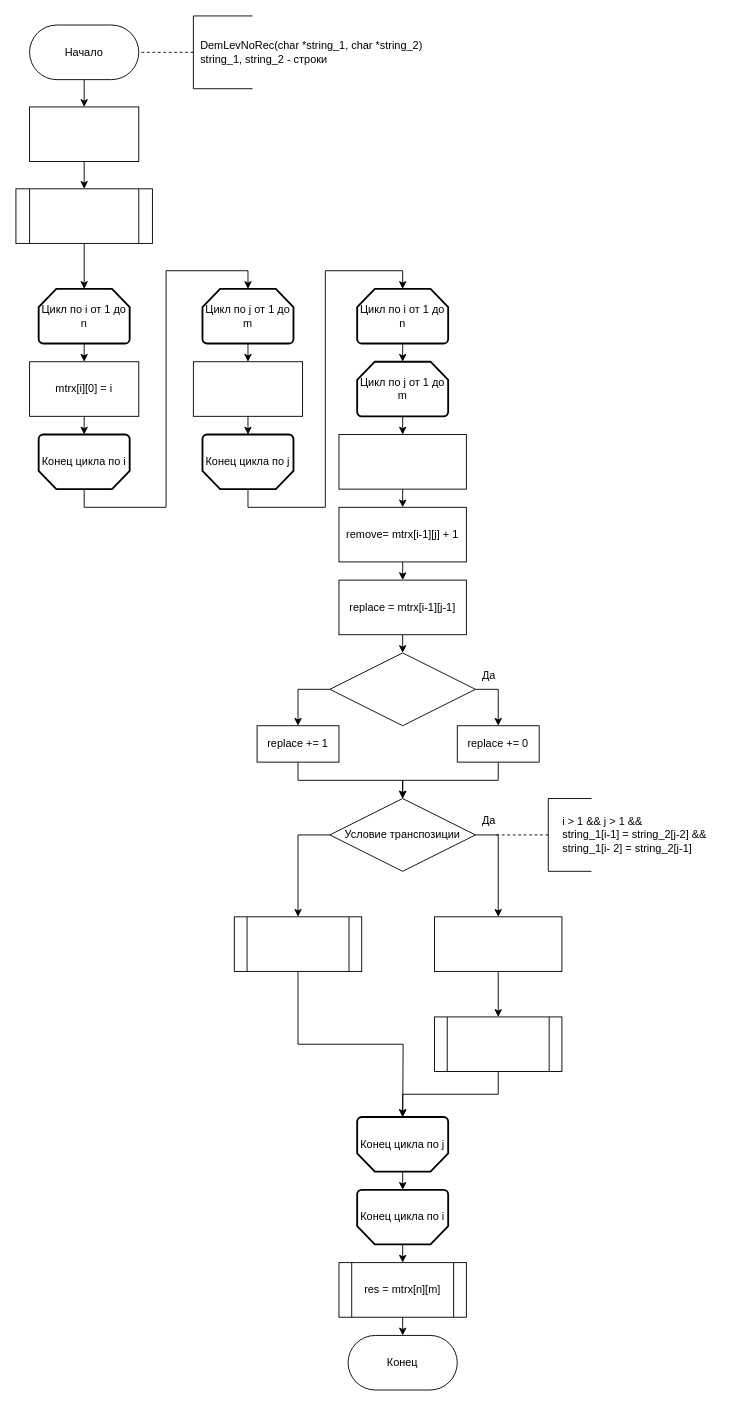
Some shapes in this 737 by 1406 pixel diagram are drawn without their labels. Each missing label, with the centre of its shape:
"insert = mtrx[i][j-1] + 1" belongs at pixel 402 461.
"mtrx[0][j] = j" belongs at pixel 247 388.
"result = -1" belongs at pixel 84 134.
"result = min(insert, remove, replace, transpose)" belongs at pixel 498 1044.
"result = min(insert, replace, remove)" belongs at pixel 297 943.
"string_1[i-1] = string_2[j-1]" belongs at pixel 402 689.
"transpose = mtrx[i-2][j-2] + 1" belongs at pixel 498 943.
"Создание матрицы mtrx" belongs at pixel 83 215.
